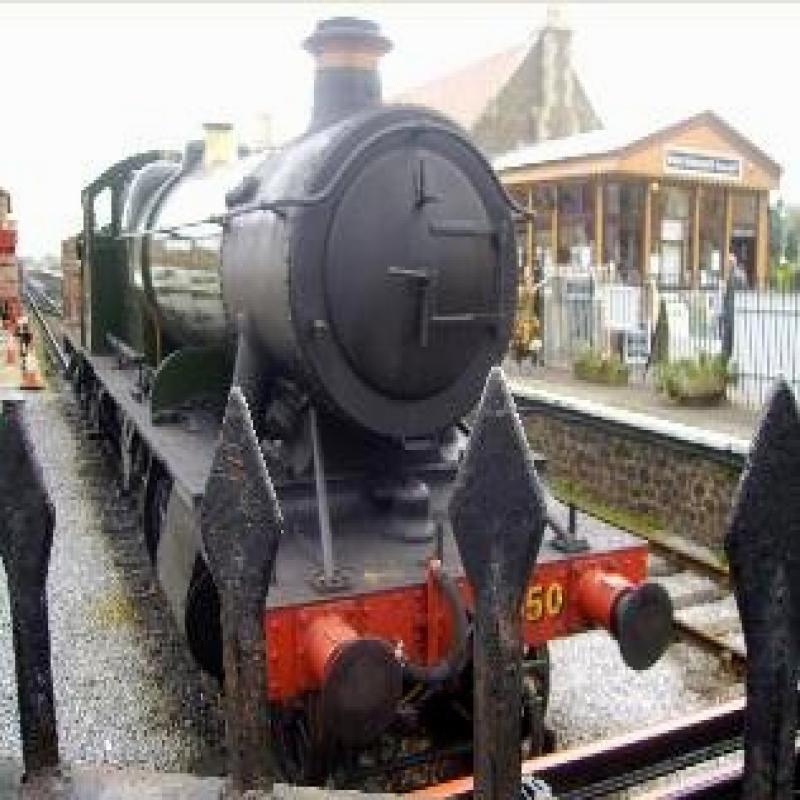train: (67, 15, 674, 775)
